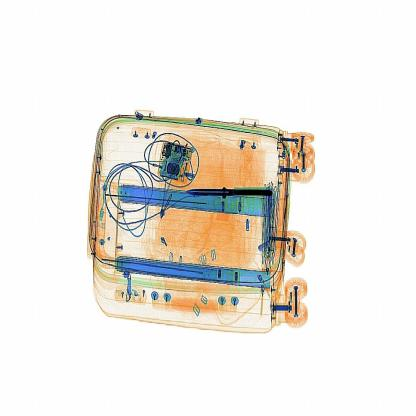gun: (176, 180, 278, 202)
